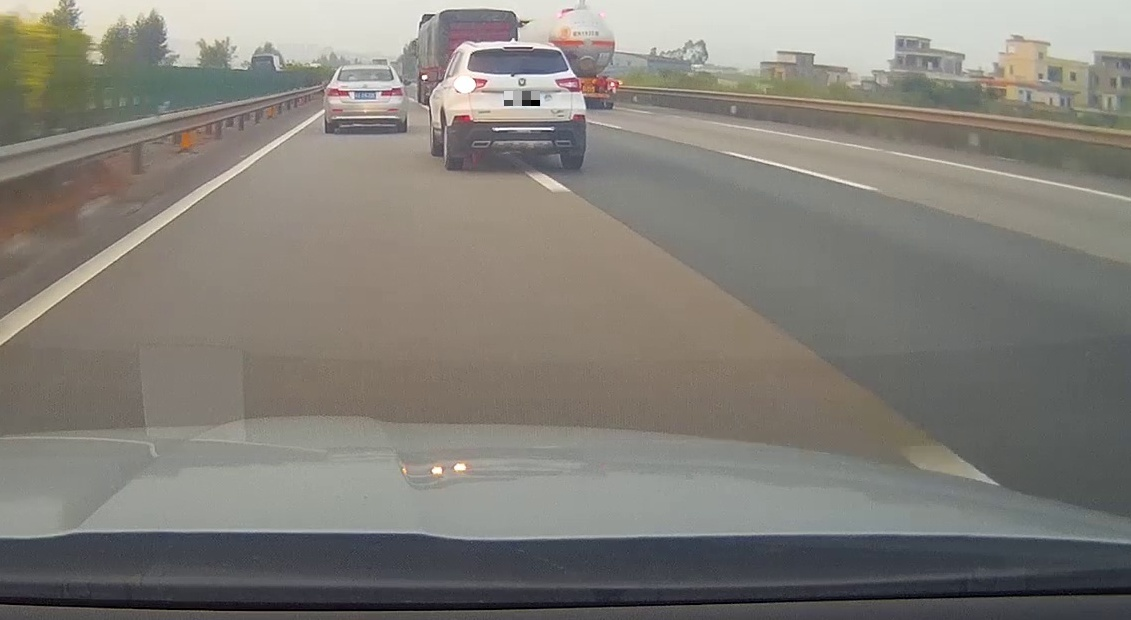L_light: (453, 75, 488, 94), (326, 88, 349, 96)
R_light: (555, 77, 582, 92), (381, 88, 403, 96)
T_light: (503, 46, 534, 51), (360, 67, 370, 70)
day-left: (451, 42, 586, 170)
day-no: (325, 65, 405, 134)
plate_1: (504, 91, 540, 106)
